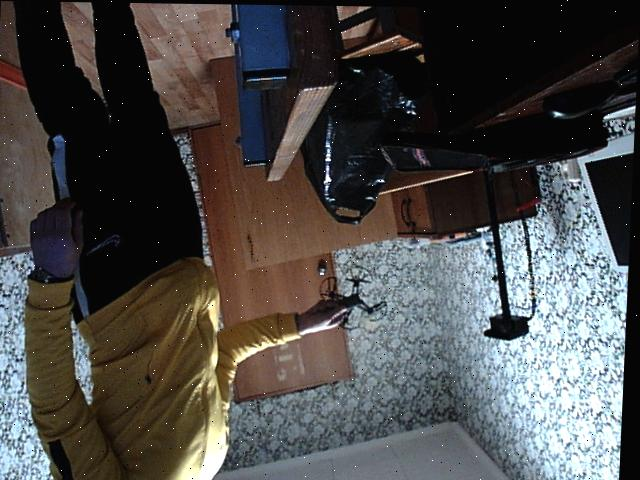drone: (304, 263, 405, 342)
